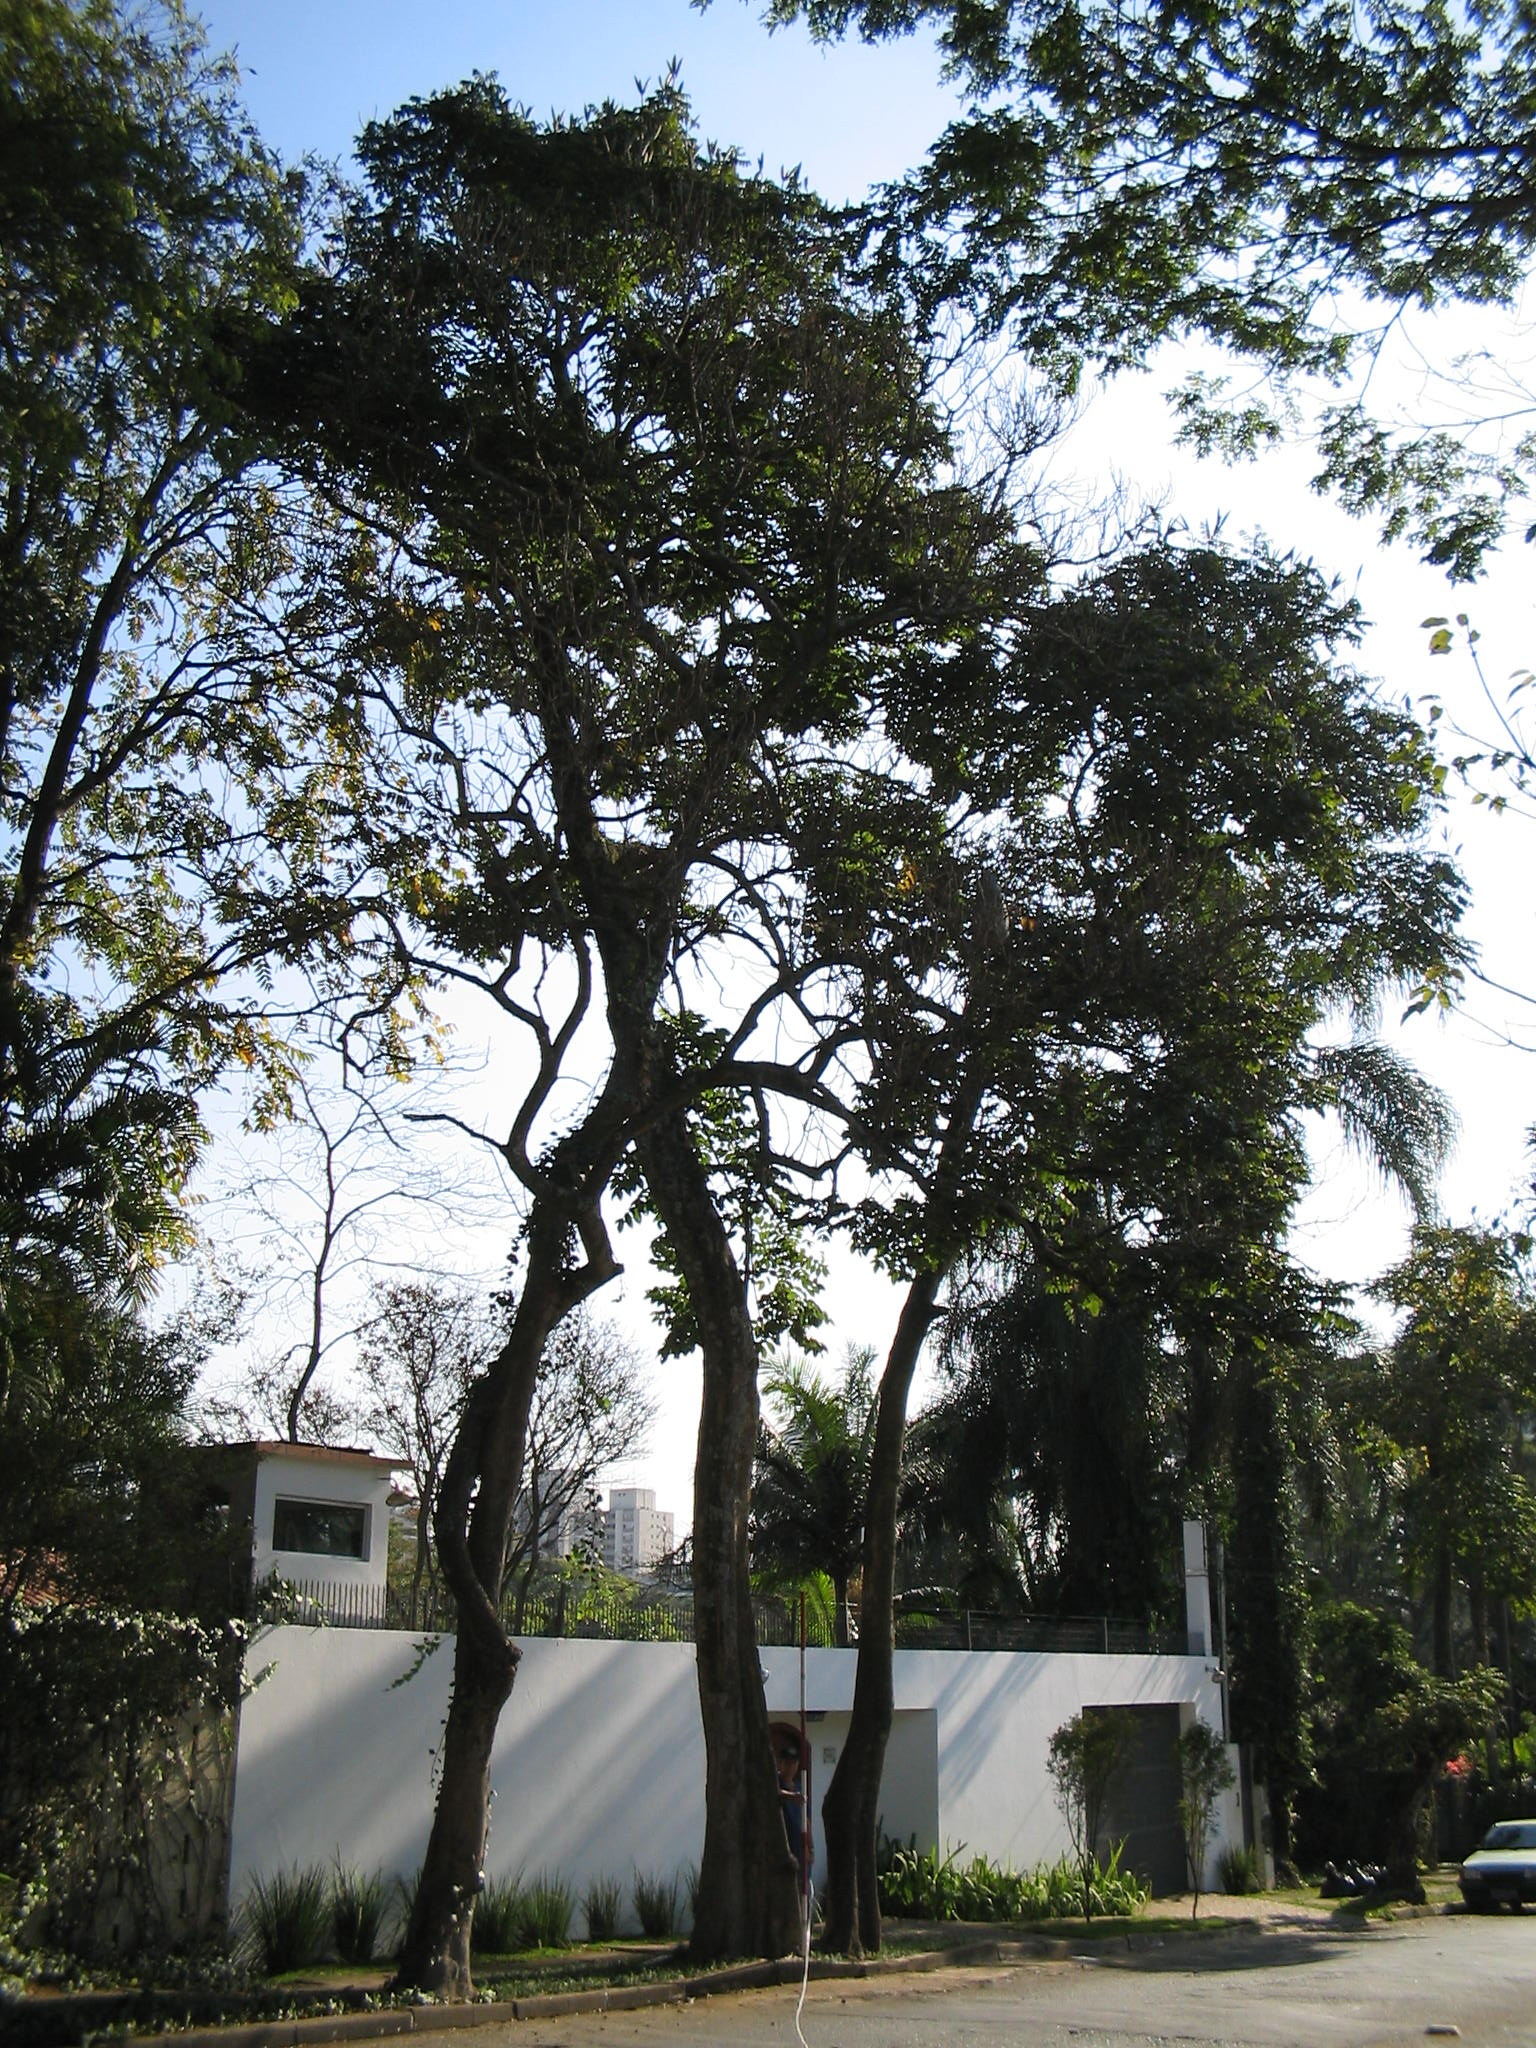stick: (778, 1592, 829, 1954)
